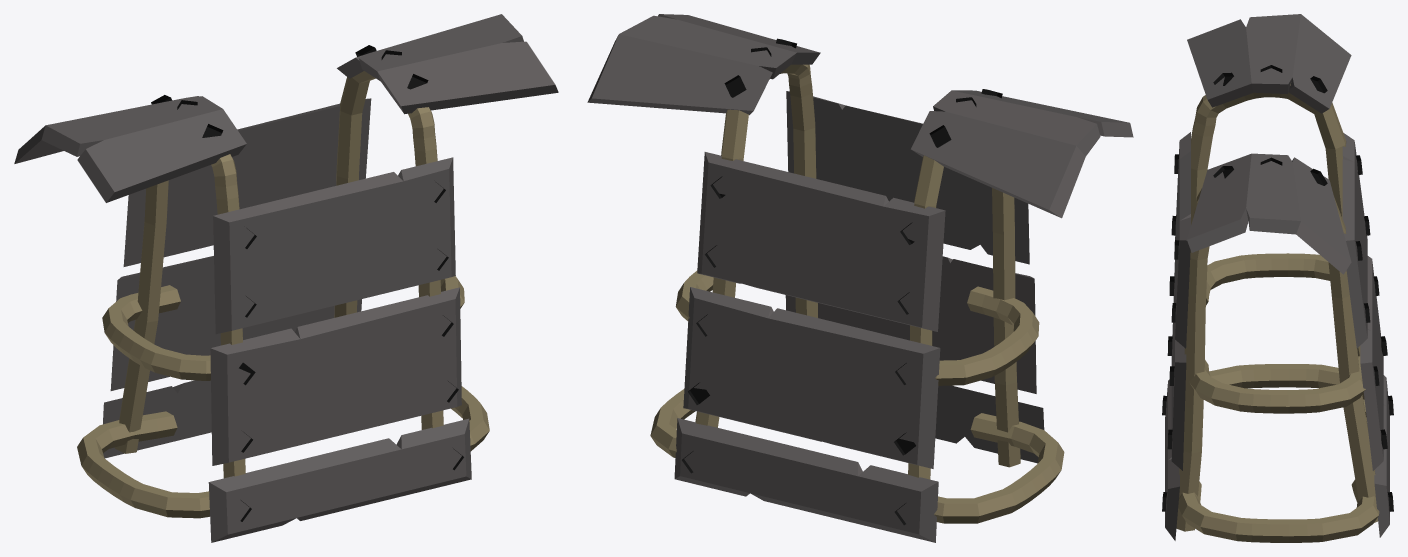
File: IronArmor.fbx
The picture shows the model from 3 angles, left to right: view 1: azimuth 30°, elevation 25°; view 2: azimuth 150°, elevation 25°; view 3: azimuth 270°, elevation 25°; orthographic projection. The views are drawn at different scales.
Visible parts, largest first — view 1: Stone_Armor; view 2: Stone_Armor; view 3: Stone_Armor.
Boxes of the visible parts, left/top/right/bottom form: Stone_Armor: left=14, top=14, right=558, bottom=542; Stone_Armor: left=587, top=14, right=1133, bottom=542; Stone_Armor: left=1162, top=14, right=1393, bottom=542.
Size of the model in its own units: 1.29 by 1.03 by 0.588.
